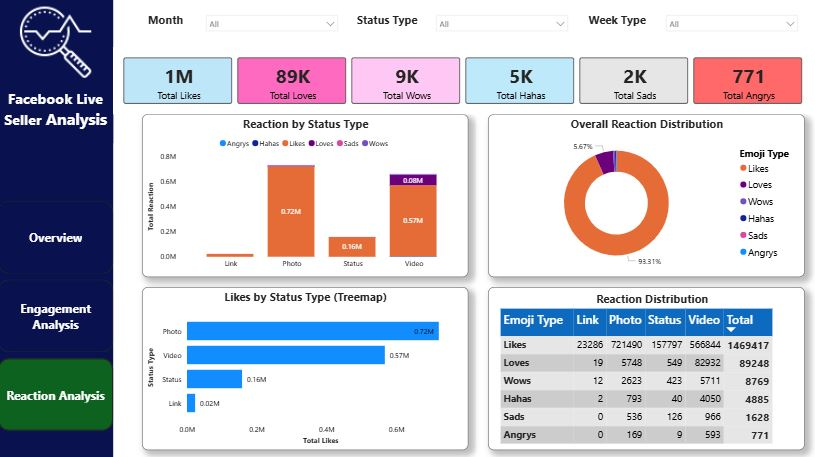

This screenshot's page, from the dashboard's own definition file:
{"tool":"powerbi","page":{"name":"Reaction Analysis","canvas":[1366,768],"ordinal":2},"visuals":[{"type":"shape","box":[0,0,192,768],"z":0},{"type":"textbox","box":[0,144,192,96],"z":1000},{"type":"pageNavigator","box":[0,336,192,384],"z":2000},{"type":"columnChart","title":"Reaction by Status Type","fields":{"Category":["Live.status_type"],"Series":["EmojiLabels.Emoji Type"],"Y":["EmojiLabels.Emoji Count"]},"box":[240,192,544,272],"z":8000},{"type":"donutChart","title":"Overall Reaction Distribution","fields":{"Category":["EmojiLabels.Emoji Type"],"Y":["EmojiLabels.Emoji Count"]},"box":[816,192,528,272],"z":9000},{"type":"clusteredBarChart","title":"Likes by Status Type (Treemap)","fields":{"Category":["Live.status_type"],"Y":["Sum(Live.num_likes)"]},"box":[240,480,544,272],"z":10000},{"type":"cardVisual","fields":{"Data":["Sum(Live.num_likes)","Sum(Live.num_loves)","Sum(Live.num_wows)","Sum(Live.num_hahas)","Sum(Live.num_sads)","Sum(Live.num_angrys)"]},"box":[192,80,1168,112],"z":12000},{"type":"pivotTable","title":"Reaction Distribution","fields":{"Columns":["Live.status_type"],"Rows":["EmojiLabels.Emoji Type"],"Values":["EmojiLabels.Emoji Count"]},"box":[816,480,528,272],"z":13000},{"type":"image","box":[0,0,192,144],"z":14000},{"type":"slicer","fields":{"Values":["Live.status_type"]},"box":[720,16,240,48],"z":14001},{"type":"slicer","fields":{"Values":["Live.Week Type"]},"box":[1104,16,240,48],"z":14002},{"type":"textbox","box":[224,16,112,48],"z":14003},{"type":"textbox","box":[960,16,144,48],"z":14004},{"type":"textbox","box":[576,16,144,48],"z":14005},{"type":"slicer","fields":{"Values":["DateTable.Month"]},"box":[336,16,240,48],"z":14006}]}

Visuals, with their boxes in screenshot pixels (x1, y1, x2, y2), scaled from the page's 1366x768 canvas onto the 815x457 screenshot:
shape: box=[0, 0, 115, 456]
textbox: box=[0, 86, 115, 143]
pageNavigator: box=[0, 200, 115, 428]
"Reaction by Status Type" columnChart: box=[143, 114, 468, 276]
"Overall Reaction Distribution" donutChart: box=[487, 114, 802, 276]
"Likes by Status Type (Treemap)" clusteredBarChart: box=[143, 286, 468, 447]
cardVisual - Sum(Live.num_likes) x Sum(Live.num_loves): box=[115, 48, 811, 114]
"Reaction Distribution" pivotTable: box=[487, 286, 802, 447]
image: box=[0, 0, 115, 86]
slicer - Live.status_type: box=[430, 10, 573, 38]
slicer - Live.Week Type: box=[659, 10, 802, 38]
textbox: box=[134, 10, 200, 38]
textbox: box=[573, 10, 659, 38]
textbox: box=[344, 10, 430, 38]
slicer - DateTable.Month: box=[200, 10, 344, 38]
